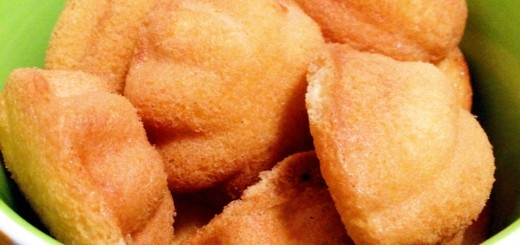kanomkai: (292, 31, 498, 245), (2, 53, 186, 245)
